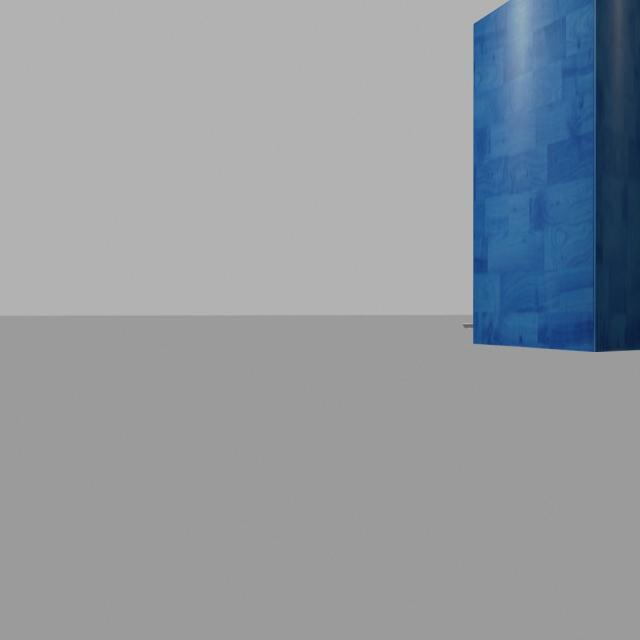bowl: (458, 316, 482, 335)
shelf: (465, 0, 640, 357)
